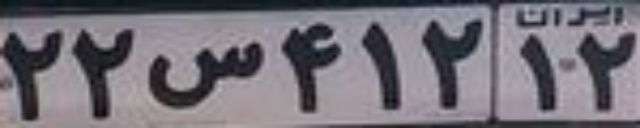1: (510, 33, 558, 112), (361, 23, 399, 109)
2: (70, 25, 134, 116), (2, 29, 63, 122), (421, 19, 476, 110), (574, 31, 634, 109)
4: (279, 22, 340, 111)
sin: (142, 40, 266, 109)
